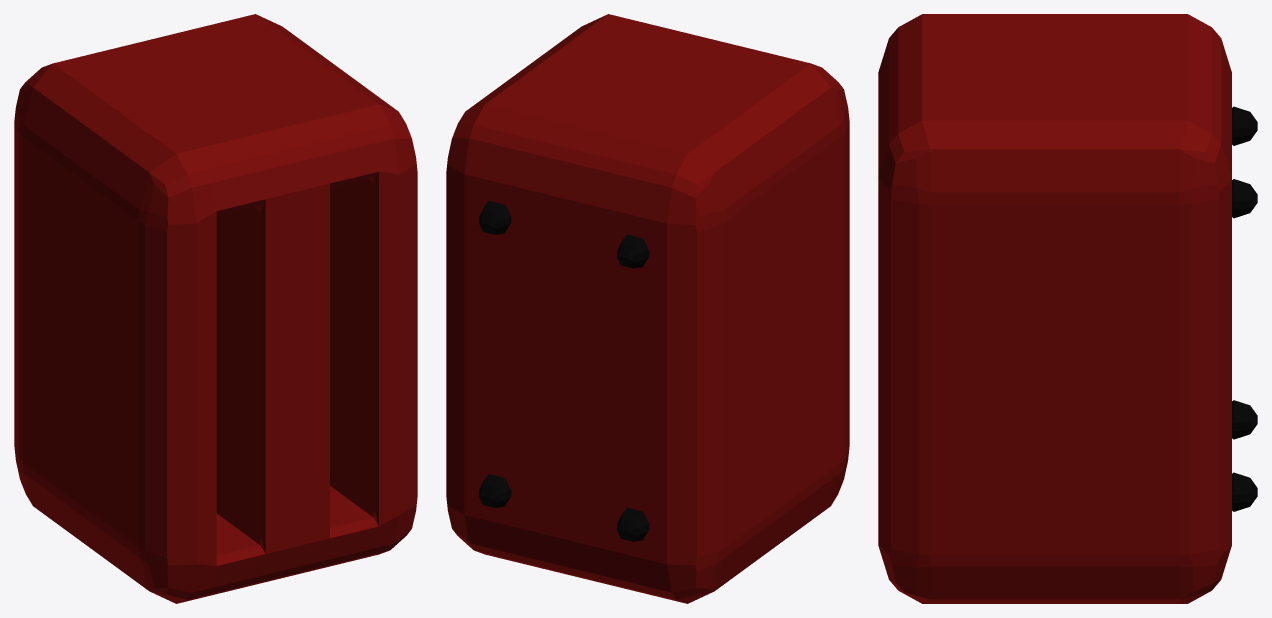
Rendered from corpus.obj.
3 renders of one model, left to right at view 1: azimuth 30°, elevation 25°; view 2: azimuth 150°, elevation 25°; view 3: azimuth 270°, elevation 25°, orthographic. The views are drawn at different scales.
Parts seen in each view (by area): view 1: Cube.103_Cube.131_basic_1; view 2: Cube.103_Cube.131_basic_1, Cube.103_Cube.131_darck; view 3: Cube.103_Cube.131_basic_1, Cube.103_Cube.131_darck.
Boxes of the visible parts, x1=… form: Cube.103_Cube.131_basic_1: x1=14, y1=14, x2=417, y2=603; Cube.103_Cube.131_basic_1: x1=446, y1=14, x2=849, y2=603; Cube.103_Cube.131_darck: x1=479, y1=200, x2=649, y2=541; Cube.103_Cube.131_basic_1: x1=878, y1=14, x2=1231, y2=603; Cube.103_Cube.131_darck: x1=1232, y1=106, x2=1257, y2=511.
Size of the model in its own units: 0.036 by 0.0573 by 0.0407.
